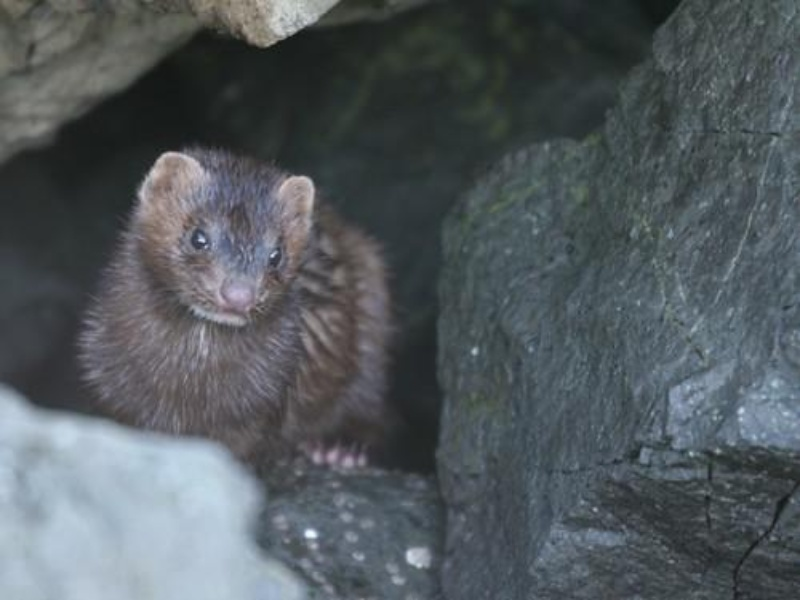minkish: (78, 145, 395, 468)
